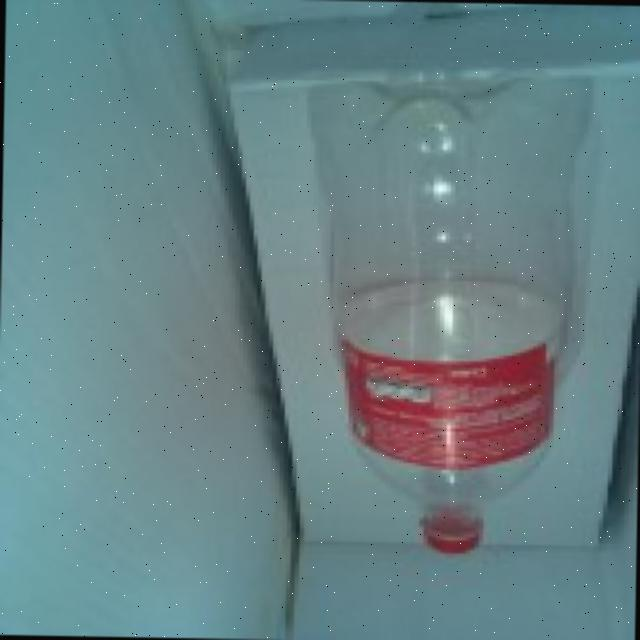bottle: (272, 48, 594, 565)
cap: (400, 519, 492, 558)
label: (321, 337, 578, 465)
